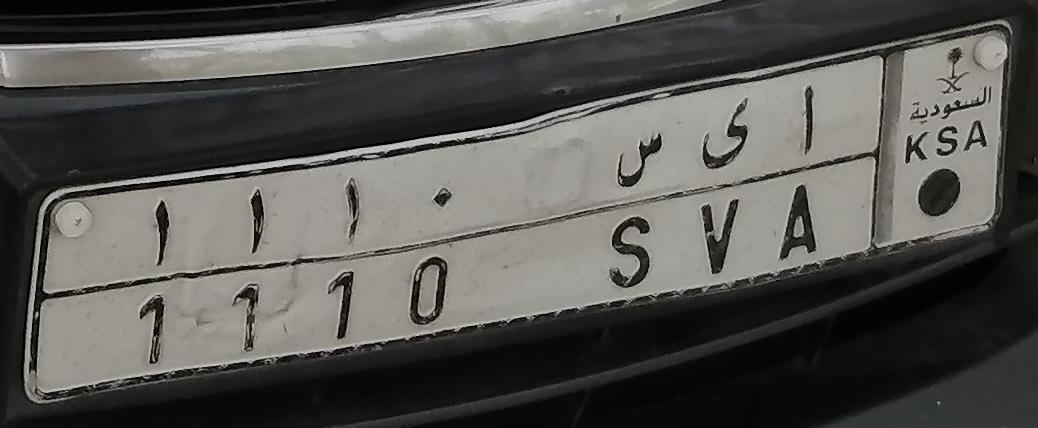0: (407, 183, 458, 325)
1: (226, 184, 278, 353), (321, 174, 371, 346), (133, 194, 180, 368)
A: (775, 82, 826, 256)
S: (608, 129, 665, 289)
V: (698, 92, 754, 277)
